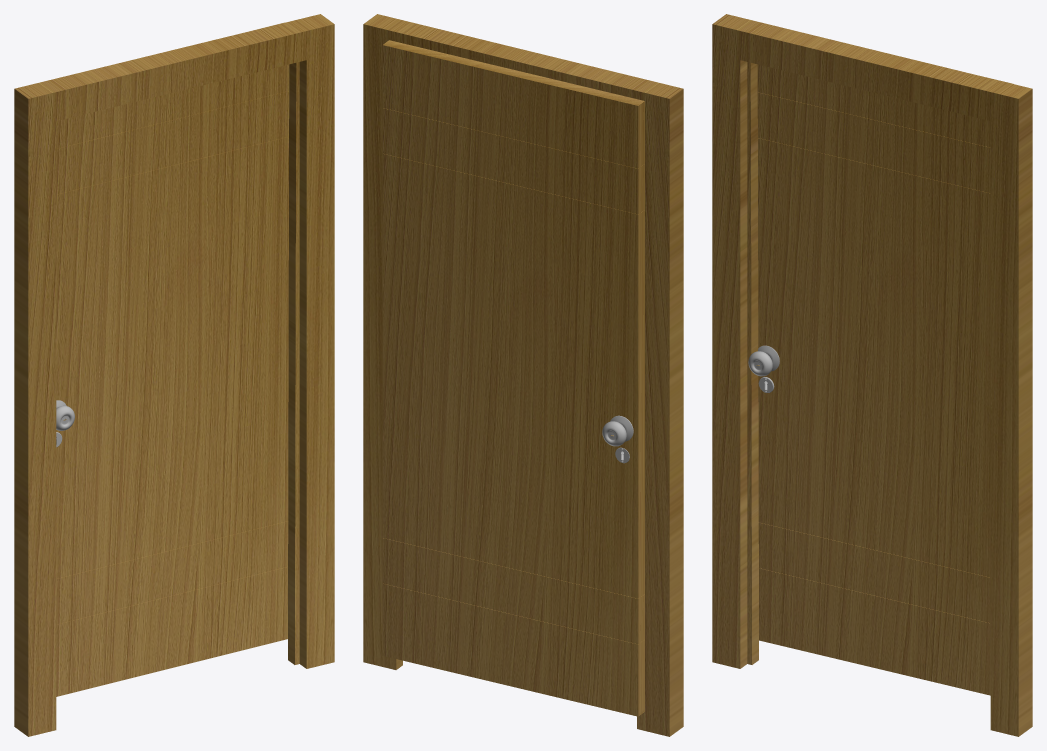
Rendered from dor.fbx.
3 views of the same model, side by side, from view 1: azimuth 30°, elevation 25°; view 2: azimuth 150°, elevation 25°; view 3: azimuth 330°, elevation 25° (orthographic).
Parts seen in each view (by area): view 1: door, frame; view 2: door, frame; view 3: door, frame.
Boxes of the visible parts, x1,y1,x2,y2 form: door: [56, 23, 289, 696]; frame: [14, 14, 334, 736]; door: [382, 40, 644, 716]; frame: [363, 14, 683, 736]; door: [748, 64, 1011, 695]; frame: [712, 14, 1032, 736].
Bounding box in the file's own units: 112 × 224 × 19.96.
